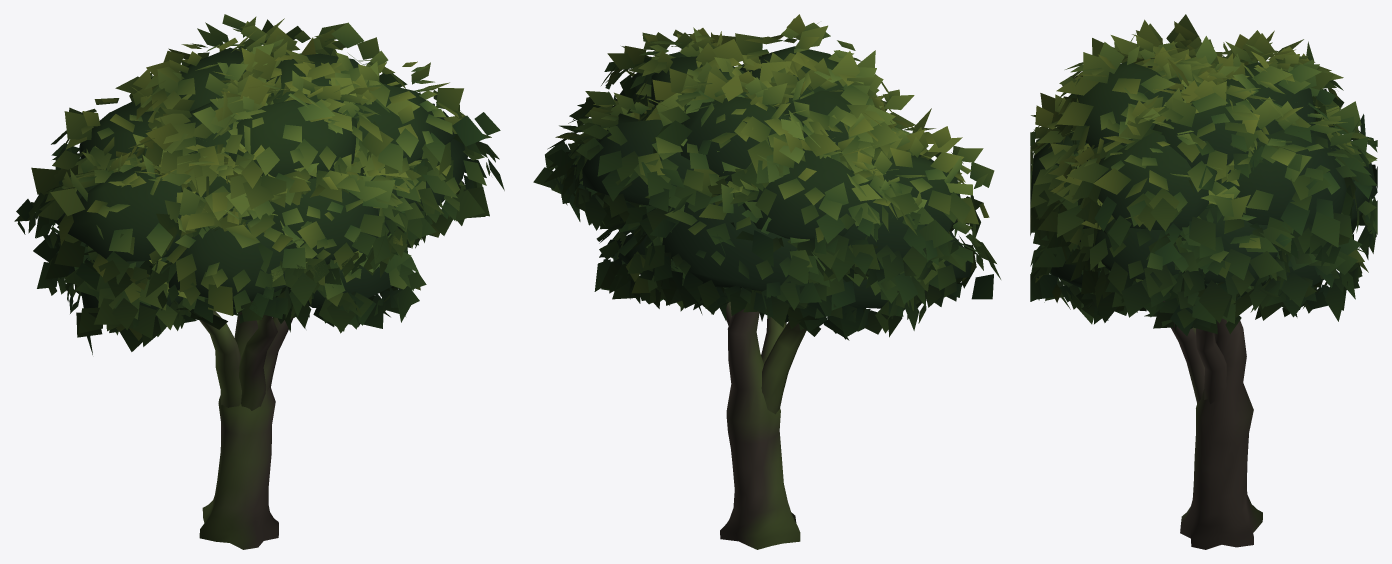
The model's file is oak_a.glb.
3 views of the same model, side by side, from view 1: azimuth 30°, elevation 25°; view 2: azimuth 150°, elevation 25°; view 3: azimuth 270°, elevation 25° (orthographic). The views are drawn at different scales.
Visible parts, largest first — view 1: Foliage, Trunk; view 2: Foliage, Trunk; view 3: Foliage, Trunk.
Boxes of the visible parts, x1,y1,x2,y2 form: Foliage: (14,14,504,354); Trunk: (199,301,293,549); Foliage: (533,14,1000,340); Trunk: (720,302,806,549); Foliage: (1030,14,1377,336); Trunk: (1163,301,1262,549).
Size of the model in its own units: 10.05 by 10.94 by 6.95.
